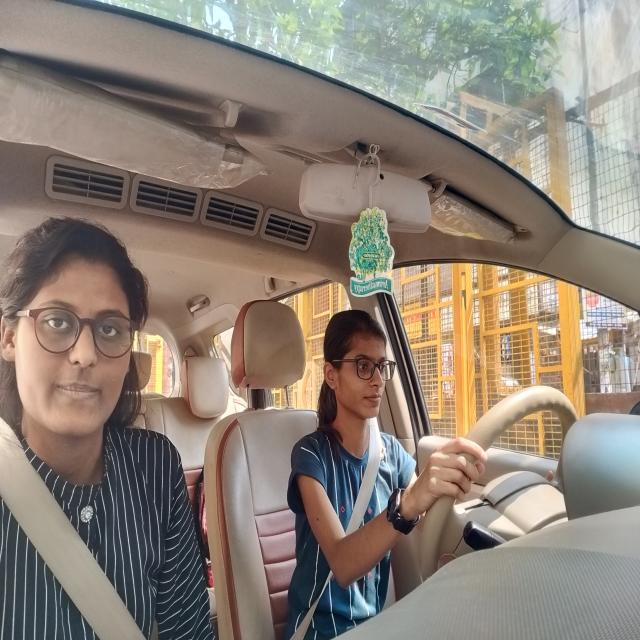person: (0, 220, 138, 443), (319, 308, 396, 424)
